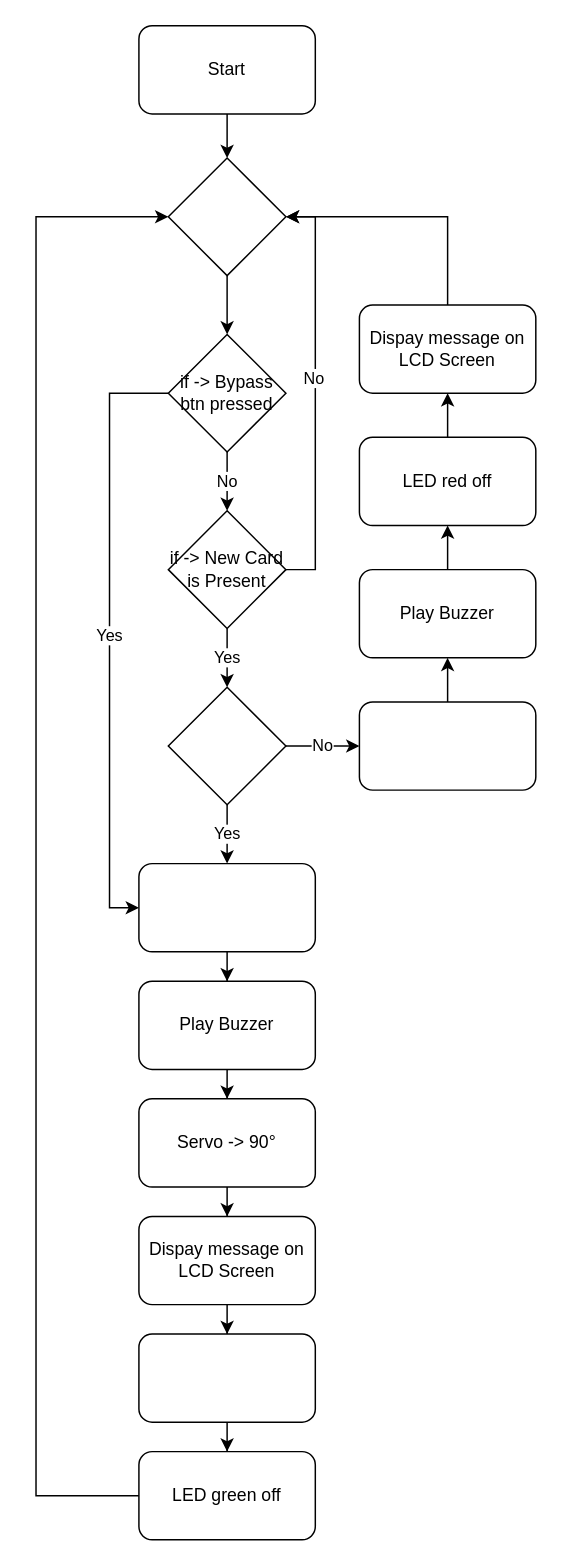
The diagram is 562 pixels wide and 1566 high, and some of its shapes have lost their labels. Each missing label, with the centre of its shape:
"If -> Card is in array" goes at point (226, 745).
"LED green on" goes at point (226, 907).
"LED red on" goes at point (447, 745).
"Servo -> -90°" goes at point (226, 1377).
"While -> true" goes at point (226, 216).
